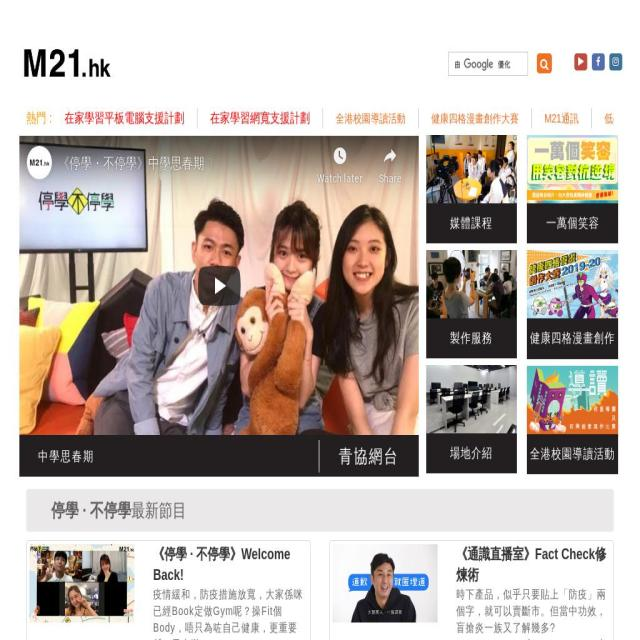button: (26, 539, 311, 640), (329, 539, 614, 640), (17, 17, 112, 108), (446, 42, 570, 79), (64, 109, 184, 128), (209, 109, 310, 128), (431, 110, 518, 127), (335, 110, 406, 127), (604, 110, 640, 127), (544, 110, 579, 127), (517, 249, 517, 250), (517, 364, 517, 365), (618, 249, 618, 250), (618, 365, 618, 366)
field: (454, 56, 520, 72)
iframe: (19, 136, 419, 436)
image: (332, 544, 438, 624), (29, 544, 134, 624), (426, 364, 518, 434), (527, 365, 618, 434), (426, 135, 518, 203), (426, 250, 518, 318), (527, 135, 618, 203), (527, 250, 618, 318), (23, 48, 112, 78), (554, 59, 562, 70)
link: (339, 446, 399, 467), (525, 53, 527, 75)
text: (152, 586, 303, 640), (456, 587, 606, 634), (152, 543, 308, 586), (456, 543, 610, 586), (426, 328, 518, 348), (527, 328, 618, 348), (527, 444, 618, 464), (51, 499, 131, 521), (426, 443, 518, 462), (426, 214, 518, 232), (527, 214, 618, 232), (38, 447, 94, 471), (131, 499, 187, 521), (455, 636, 608, 640), (26, 109, 52, 128)
